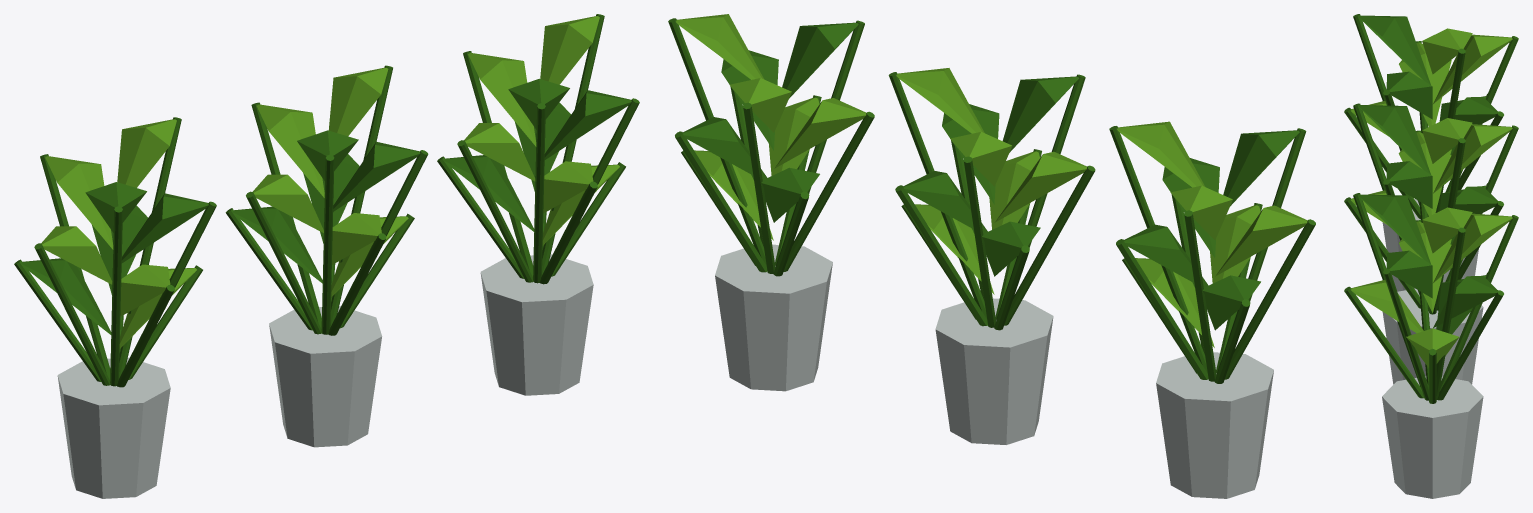
The model's file is PlantCluster.fbx.
3 views of the same model, side by side, from view 1: azimuth 30°, elevation 25°; view 2: azimuth 150°, elevation 25°; view 3: azimuth 270°, elevation 25° (orthographic). The views are drawn at different scales.
Visible parts, largest first — view 1: PlantCluster; view 2: PlantCluster; view 3: PlantCluster.
Part boxes in pixels (left/top/right/bottom): PlantCluster: left=14, top=14, right=639, bottom=498; PlantCluster: left=668, top=14, right=1315, bottom=498; PlantCluster: left=1344, top=14, right=1518, bottom=498.
Size of the model in its own units: 85.01 by 45.72 by 24.77.
1 material, 1 textured.
